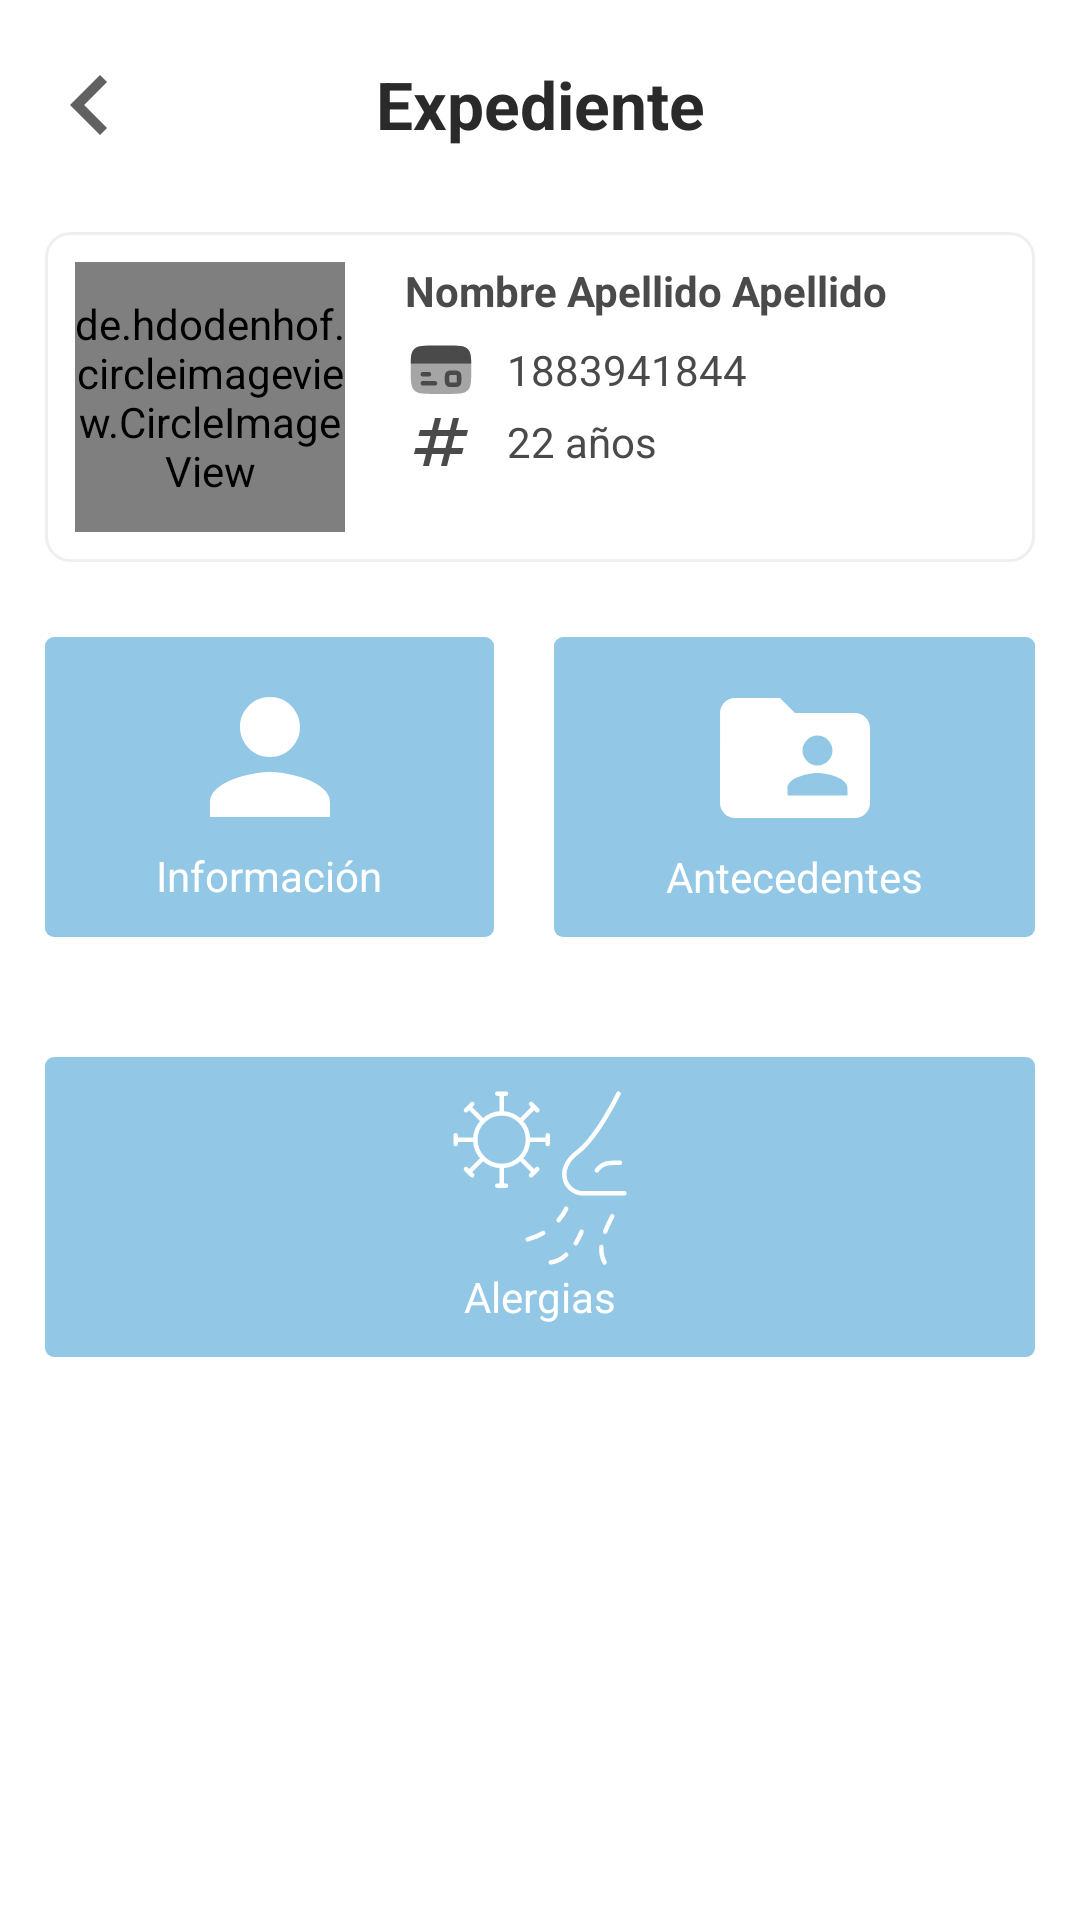

Where icons sit on this 1080 × 1920 app screen, as [left=x1, top=y1, right=x2, bottom=y2]:
folder: [left=720, top=698, right=870, bottom=818]
navigate before: [left=70, top=75, right=107, bottom=135]
numbers: [left=414, top=418, right=468, bottom=466]
